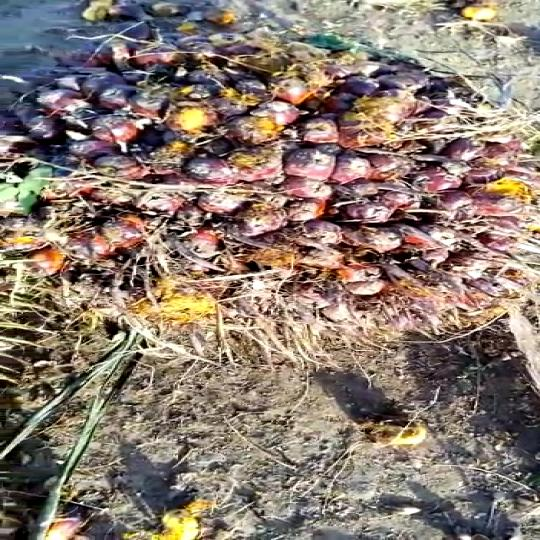masak: (0, 21, 540, 350)
